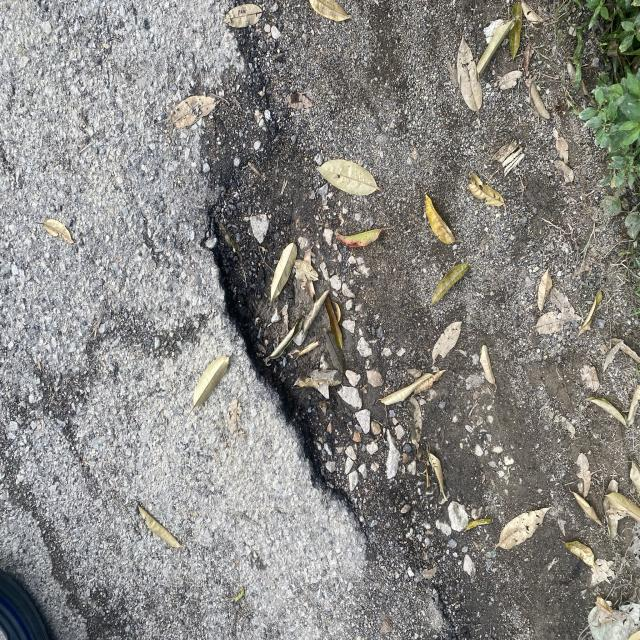Pothole: (184, 172, 410, 566)
